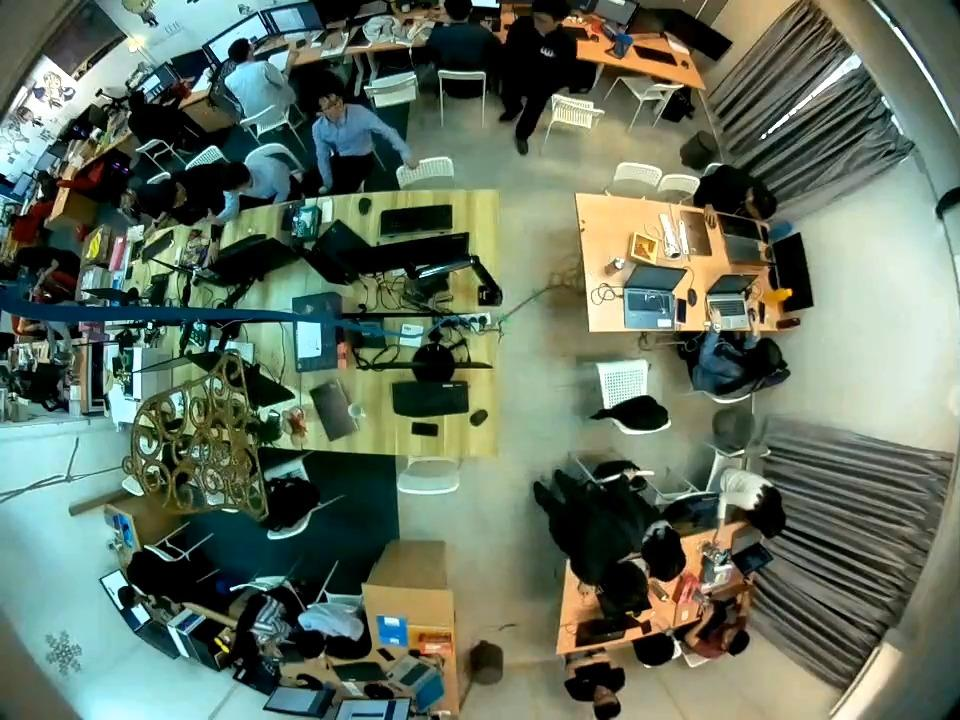name-tag: (537, 45, 554, 57)
